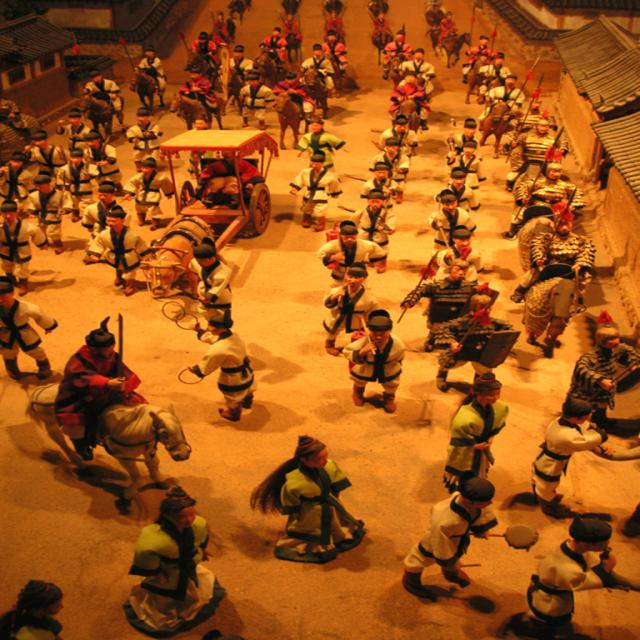Toy: (0, 0, 639, 639), (466, 2, 639, 336), (0, 0, 187, 167), (122, 473, 218, 624), (0, 578, 64, 639)
